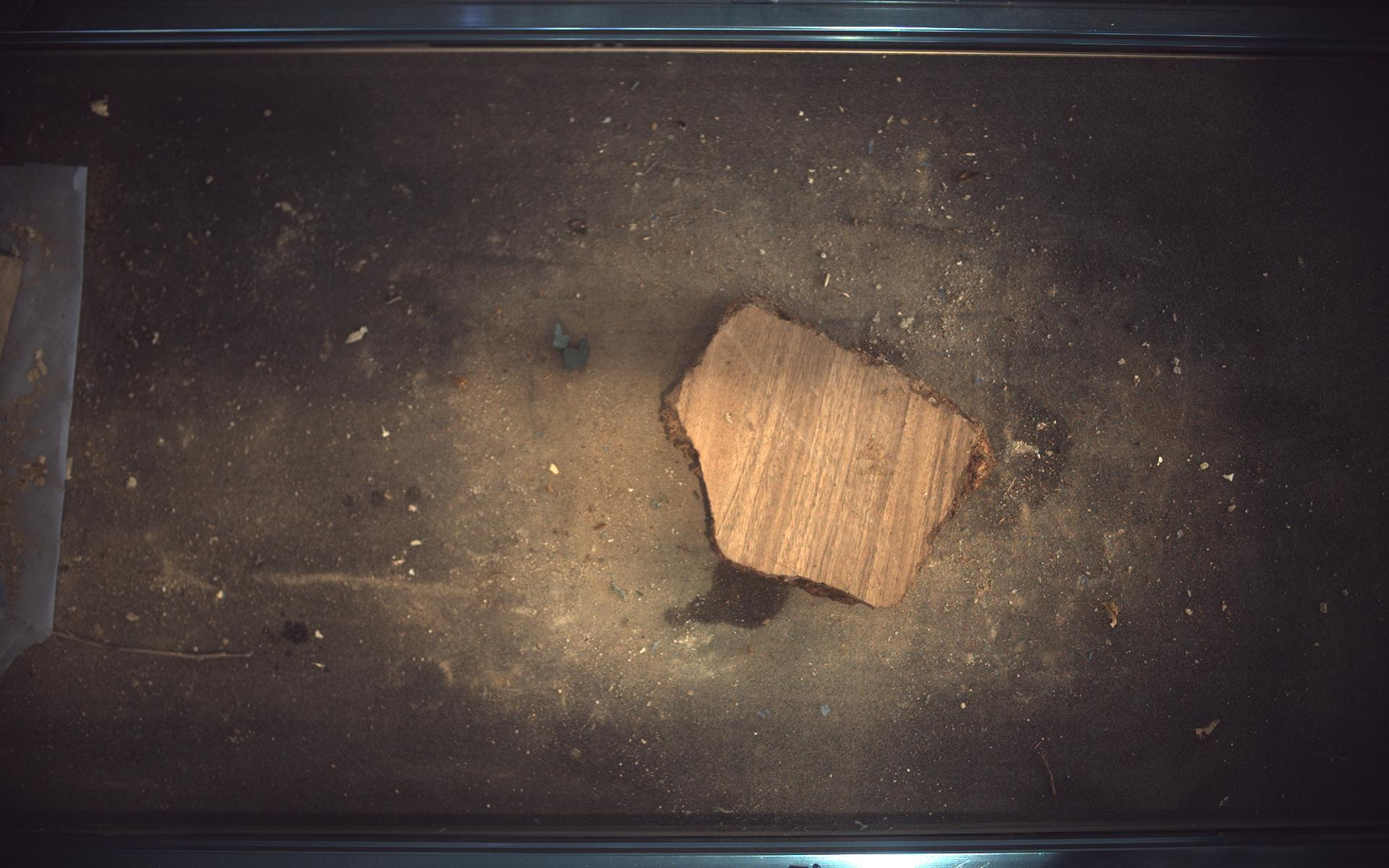wood: (663, 301, 997, 608), (1, 252, 22, 353)
